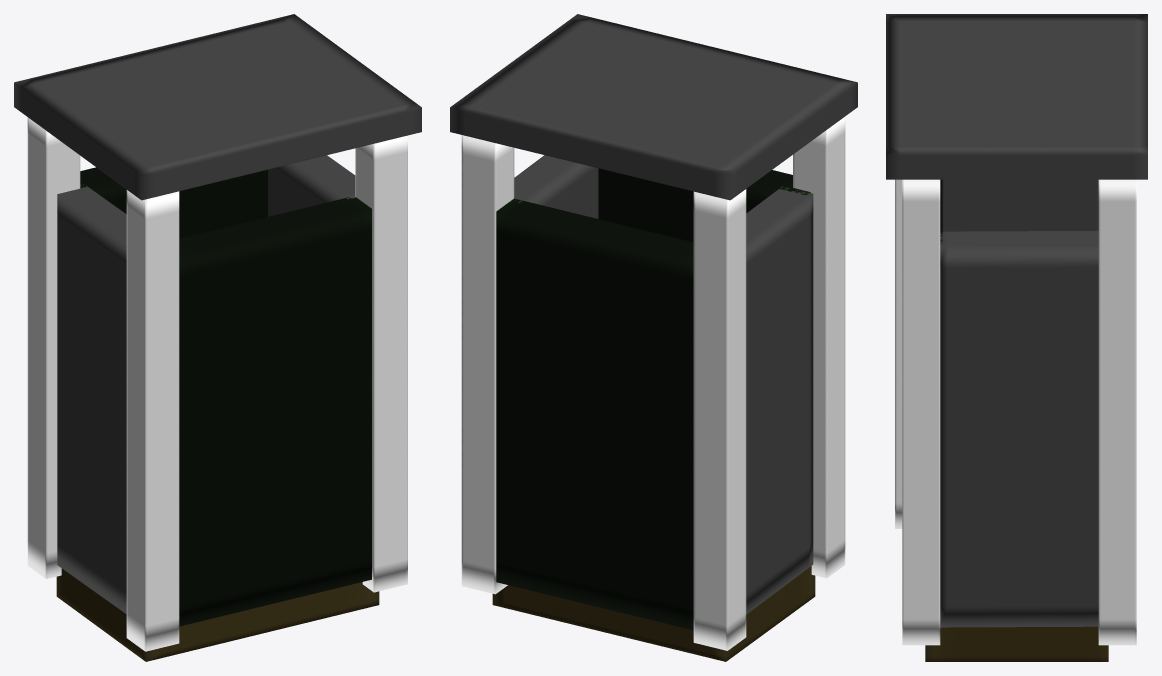
The model's file is prullenbakkis.fbx.
3 views of the same model, side by side, from view 1: azimuth 30°, elevation 25°; view 2: azimuth 150°, elevation 25°; view 3: azimuth 270°, elevation 25° (orthographic). The views are drawn at different scales.
Parts seen in each view (by area): view 1: side.001, lid.006, side.004, bar.007, bar.010, bar.008, bottom.005, side.002, side.003; view 2: side.002, lid.006, side.004, bar.008, bar.009, bar.007, bottom.005, side.001, side.003; view 3: side.003, lid.006, bar.009, bar.010, side.004, bottom.005, bar.007.
Boxes of the visible parts, x1,y1,x2,y2 form: side.001: (179,197,371,626); lid.006: (14,14,421,200); side.004: (57,184,126,613); bar.007: (126,190,179,651); bar.010: (355,135,407,592); bar.008: (27,117,80,578); bottom.005: (56,568,379,661); side.002: (80,167,267,238); side.003: (268,155,355,216); side.002: (496,198,693,630); lid.006: (450,14,857,200); side.004: (746,186,813,614); bar.008: (693,189,746,650); bar.009: (461,135,514,594); bar.007: (793,116,845,578); bottom.005: (492,566,815,661); side.001: (598,168,810,242); side.003: (511,155,598,218); side.003: (940,230,1098,627); lid.006: (886,14,1147,179); bar.009: (1098,179,1136,645); bar.010: (902,179,940,645); side.004: (942,179,1098,231); bottom.005: (925,626,1108,661); bar.007: (895,179,902,528).
Size of the model in its own units: 586 by 1011 by 462.
